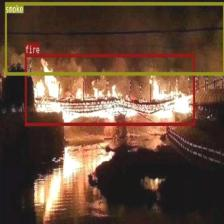fire: (24, 53, 194, 125)
smoke: (4, 1, 224, 74)
